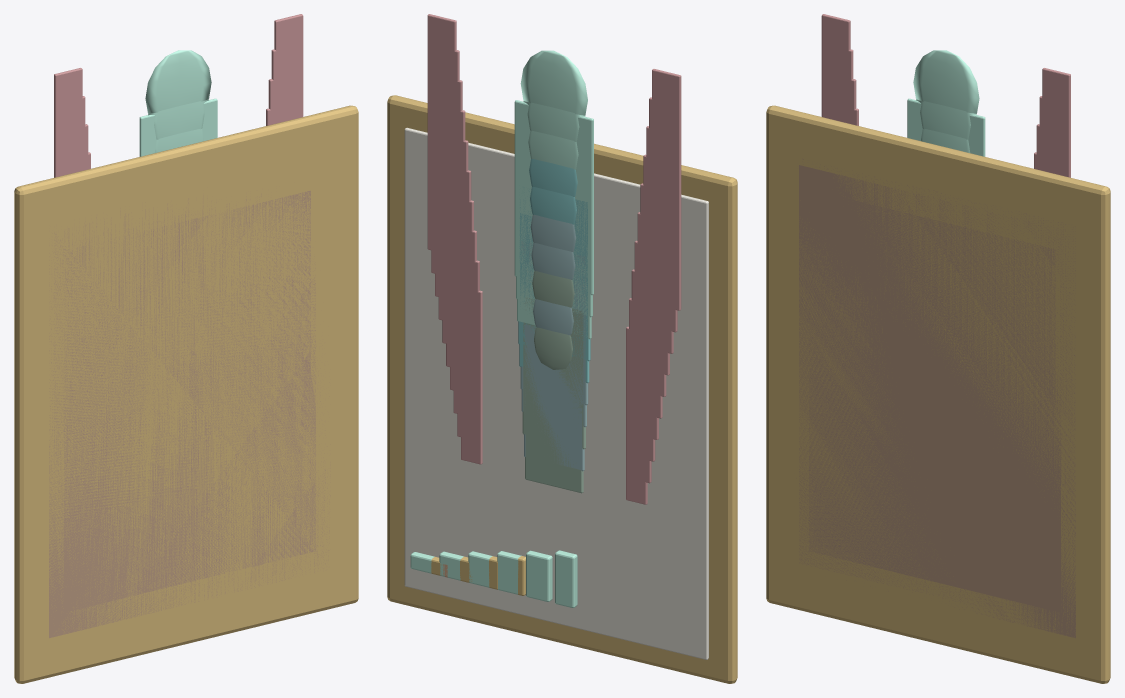
File: Gear10.fbx
The picture shows the model from 3 angles, left to right: view 1: azimuth 30°, elevation 25°; view 2: azimuth 150°, elevation 25°; view 3: azimuth 330°, elevation 25°; orthographic projection.
Parts seen in each view (by area): view 1: Gear10_V10_Gold, Gear10_V7_Gold, Gear10_V2_Wood, Gear10_V6_Gold, Gear10_V9_Gold, Gear10_V1_Wood, Gear10_V5_Wood, Gear10_V10_Rose, Gear10_V8_Gold, Gear10_V10_Glow, Gear10_V4_Wood, Gear10_V9_Glow (+4 smaller); view 2: Gear10_V7_Linen, Gear10_V10_Linen, Gear10_V10_Gold, Gear10_V9_Gold, Gear10_V10_Rose, Gear10_V10_Glow, Gear10_V6_Linen, Gear10_V3_Rose, Gear10_V7_Rose, Gear10_V1_Rose, Gear10_V2_Blue, Gear10_V5_Linen (+24 smaller); view 3: Gear10_V2_Wood, Gear10_V10_Gold, Gear10_V7_Gold, Gear10_V9_Gold, Gear10_V1_Wood, Gear10_V6_Gold, Gear10_V4_Wood, Gear10_V10_Rose, Gear10_V5_Wood, Gear10_V10_Glow, Gear10_V9_Rose, Gear10_V9_Glow (+4 smaller).
Part boxes in pixels (<box>): Gear10_V10_Gold: <box>14,105,358,683</box>; Gear10_V7_Gold: <box>39,139,340,654</box>; Gear10_V2_Wood: <box>64,196,315,612</box>; Gear10_V6_Gold: <box>44,191,335,646</box>; Gear10_V9_Gold: <box>29,122,350,656</box>; Gear10_V1_Wood: <box>69,190,310,588</box>; Gear10_V5_Wood: <box>49,202,330,638</box>; Gear10_V10_Rose: <box>54,14,303,177</box>; Gear10_V8_Gold: <box>34,131,345,617</box>; Gear10_V10_Glow: <box>139,50,217,156</box>; Gear10_V4_Wood: <box>54,195,325,620</box>; Gear10_V9_Glow: <box>143,99,215,155</box>; Gear10_V7_Linen: <box>418,166,692,635</box>; Gear10_V10_Linen: <box>404,127,708,659</box>; Gear10_V10_Gold: <box>387,95,737,683</box>; Gear10_V9_Gold: <box>395,112,722,671</box>; Gear10_V10_Rose: <box>427,14,681,310</box>; Gear10_V10_Glow: <box>410,50,593,604</box>; Gear10_V6_Linen: <box>423,161,687,554</box>; Gear10_V3_Rose: <box>453,230,655,461</box>; Gear10_V7_Rose: <box>438,107,669,375</box>; Gear10_V1_Rose: <box>461,288,647,504</box>; Gear10_V2_Blue: <box>524,299,584,471</box>; Gear10_V5_Linen: <box>428,180,683,449</box>; Gear10_V2_Wood: <box>809,244,1060,612</box>; Gear10_V10_Gold: <box>766,105,1110,683</box>; Gear10_V7_Gold: <box>784,144,1085,655</box>; Gear10_V9_Gold: <box>774,122,1095,672</box>; Gear10_V1_Wood: <box>814,197,1055,581</box>; Gear10_V6_Gold: <box>789,159,1080,646</box>; Gear10_V4_Wood: <box>799,165,1070,612</box>; Gear10_V10_Rose: <box>821,14,1070,177</box>; Gear10_V5_Wood: <box>796,158,1075,638</box>; Gear10_V10_Glow: <box>907,50,985,156</box>; Gear10_V9_Rose: <box>826,46,1064,166</box>; Gear10_V9_Glow: <box>909,99,981,155</box>.
Size of the model in its own units: 84.32 by 140 by 7.44.
